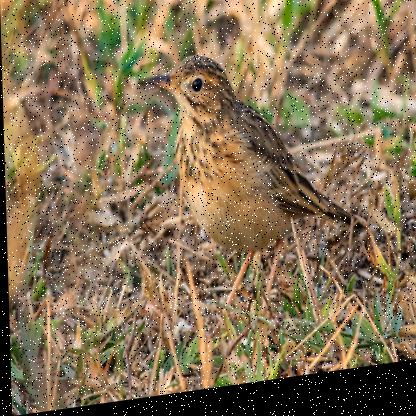Burung: (146, 41, 357, 337)
